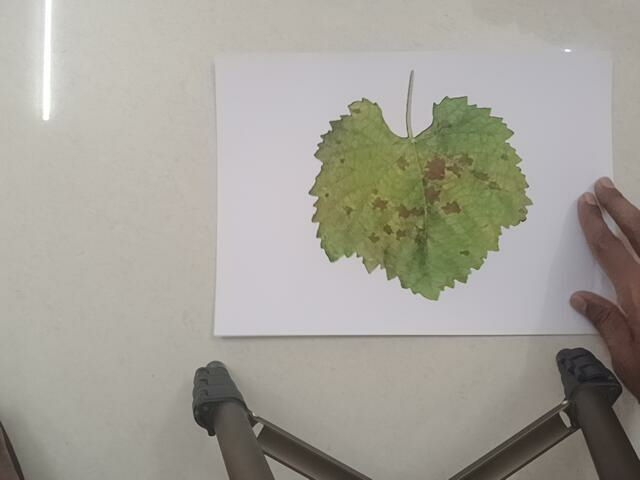Grape_Leaf_Vine_Disease: (300, 66, 535, 305)
